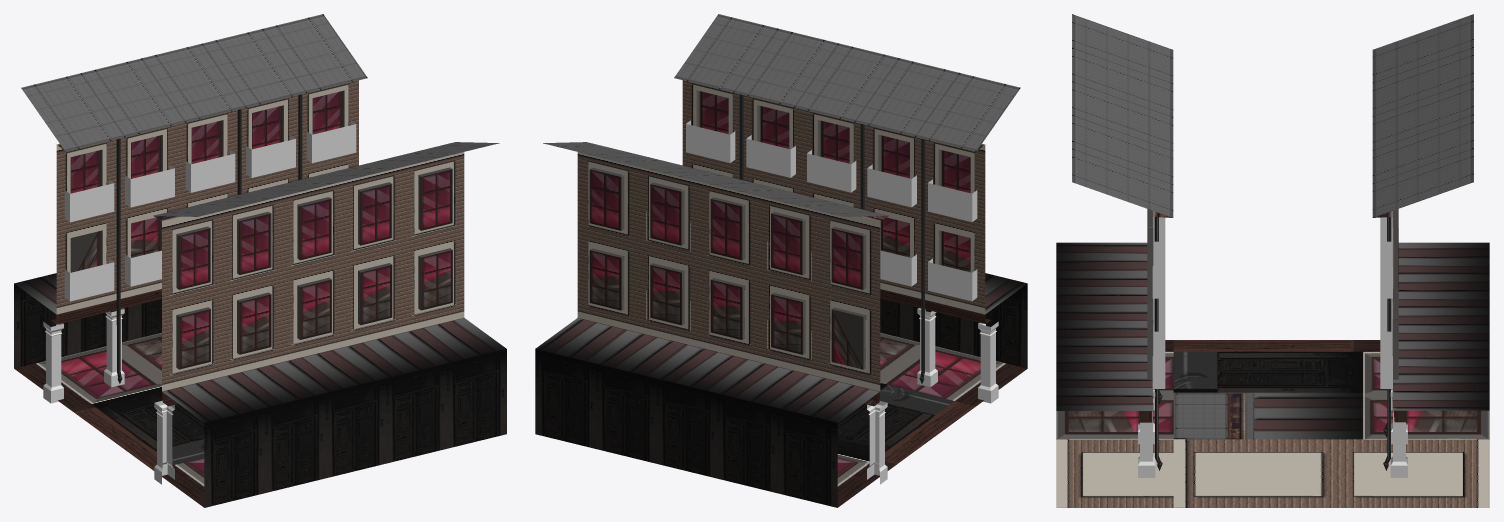
File: callemayor_asset.fbx
3 renders of one model, left to right at view 1: azimuth 30°, elevation 25°; view 2: azimuth 150°, elevation 25°; view 3: azimuth 270°, elevation 25°, orthographic. The views are drawn at different scales.
Visible parts, largest first — view 1: Cube.007, Cube.019, Cube.006, Cube.020, Cube.016, Cube.013, Cube.018, Cube.005, Cube.014, Cylinder.001, Cube.017, Cube.004; view 2: Cube.007, Cube.028, Cube.024, Cube.021, Cube.022, Cube.030, Cube.026, Cube.014, Cube.005, Cube.023, Cube.012, Cylinder.006; view 3: Cube.007, Cube.003, Cube.009, Cube.029, Cube.030, Cube, Cube.006, Cylinder.002, Cylinder.005.
Part boxes in pixels (left/top/right/bottom): Cube.007: left=14, top=14, right=506, bottom=507; Cube.019: left=64, top=258, right=114, bottom=301; Cube.006: left=306, top=120, right=356, bottom=163; Cube.020: left=64, top=179, right=114, bottom=222; Cube.016: left=185, top=150, right=235, bottom=192; Cube.013: left=246, top=135, right=295, bottom=177; Cube.018: left=125, top=164, right=174, bottom=207; Cube.005: left=43, top=321, right=63, bottom=403; Cube.014: left=154, top=400, right=174, bottom=484; Cylinder.001: left=116, top=138, right=122, bottom=383; Cube.017: left=125, top=250, right=161, bottom=286; Cube.004: left=104, top=308, right=124, bottom=387; Cube.007: left=535, top=14, right=1027, bottom=507; Cube.028: left=746, top=135, right=795, bottom=177; Cube.024: left=867, top=164, right=916, bottom=207; Cube.021: left=928, top=258, right=977, bottom=301; Cube.022: left=928, top=179, right=977, bottom=221; Cube.030: left=686, top=120, right=735, bottom=162; Cube.026: left=807, top=150, right=856, bottom=192; Cube.014: left=978, top=321, right=998, bottom=403; Cube.005: left=867, top=401, right=887, bottom=484; Cube.023: left=880, top=250, right=916, bottom=286; Cube.012: left=917, top=308, right=937, bottom=387; Cylinder.006: left=919, top=138, right=925, bottom=383; Cube.007: left=1056, top=14, right=1489, bottom=507; Cube.003: left=1390, top=389, right=1407, bottom=477; Cube.009: left=1138, top=389, right=1155, bottom=477; Cube.029: left=1152, top=331, right=1165, bottom=388; Cube.030: left=1152, top=241, right=1165, bottom=298; Cube: left=1380, top=331, right=1392, bottom=388; Cube.006: left=1380, top=241, right=1392, bottom=298; Cylinder.002: left=1383, top=217, right=1391, bottom=470; Cylinder.005: left=1154, top=217, right=1162, bottom=470.
Size of the model in its own units: 2044 by 1816 by 2179.
